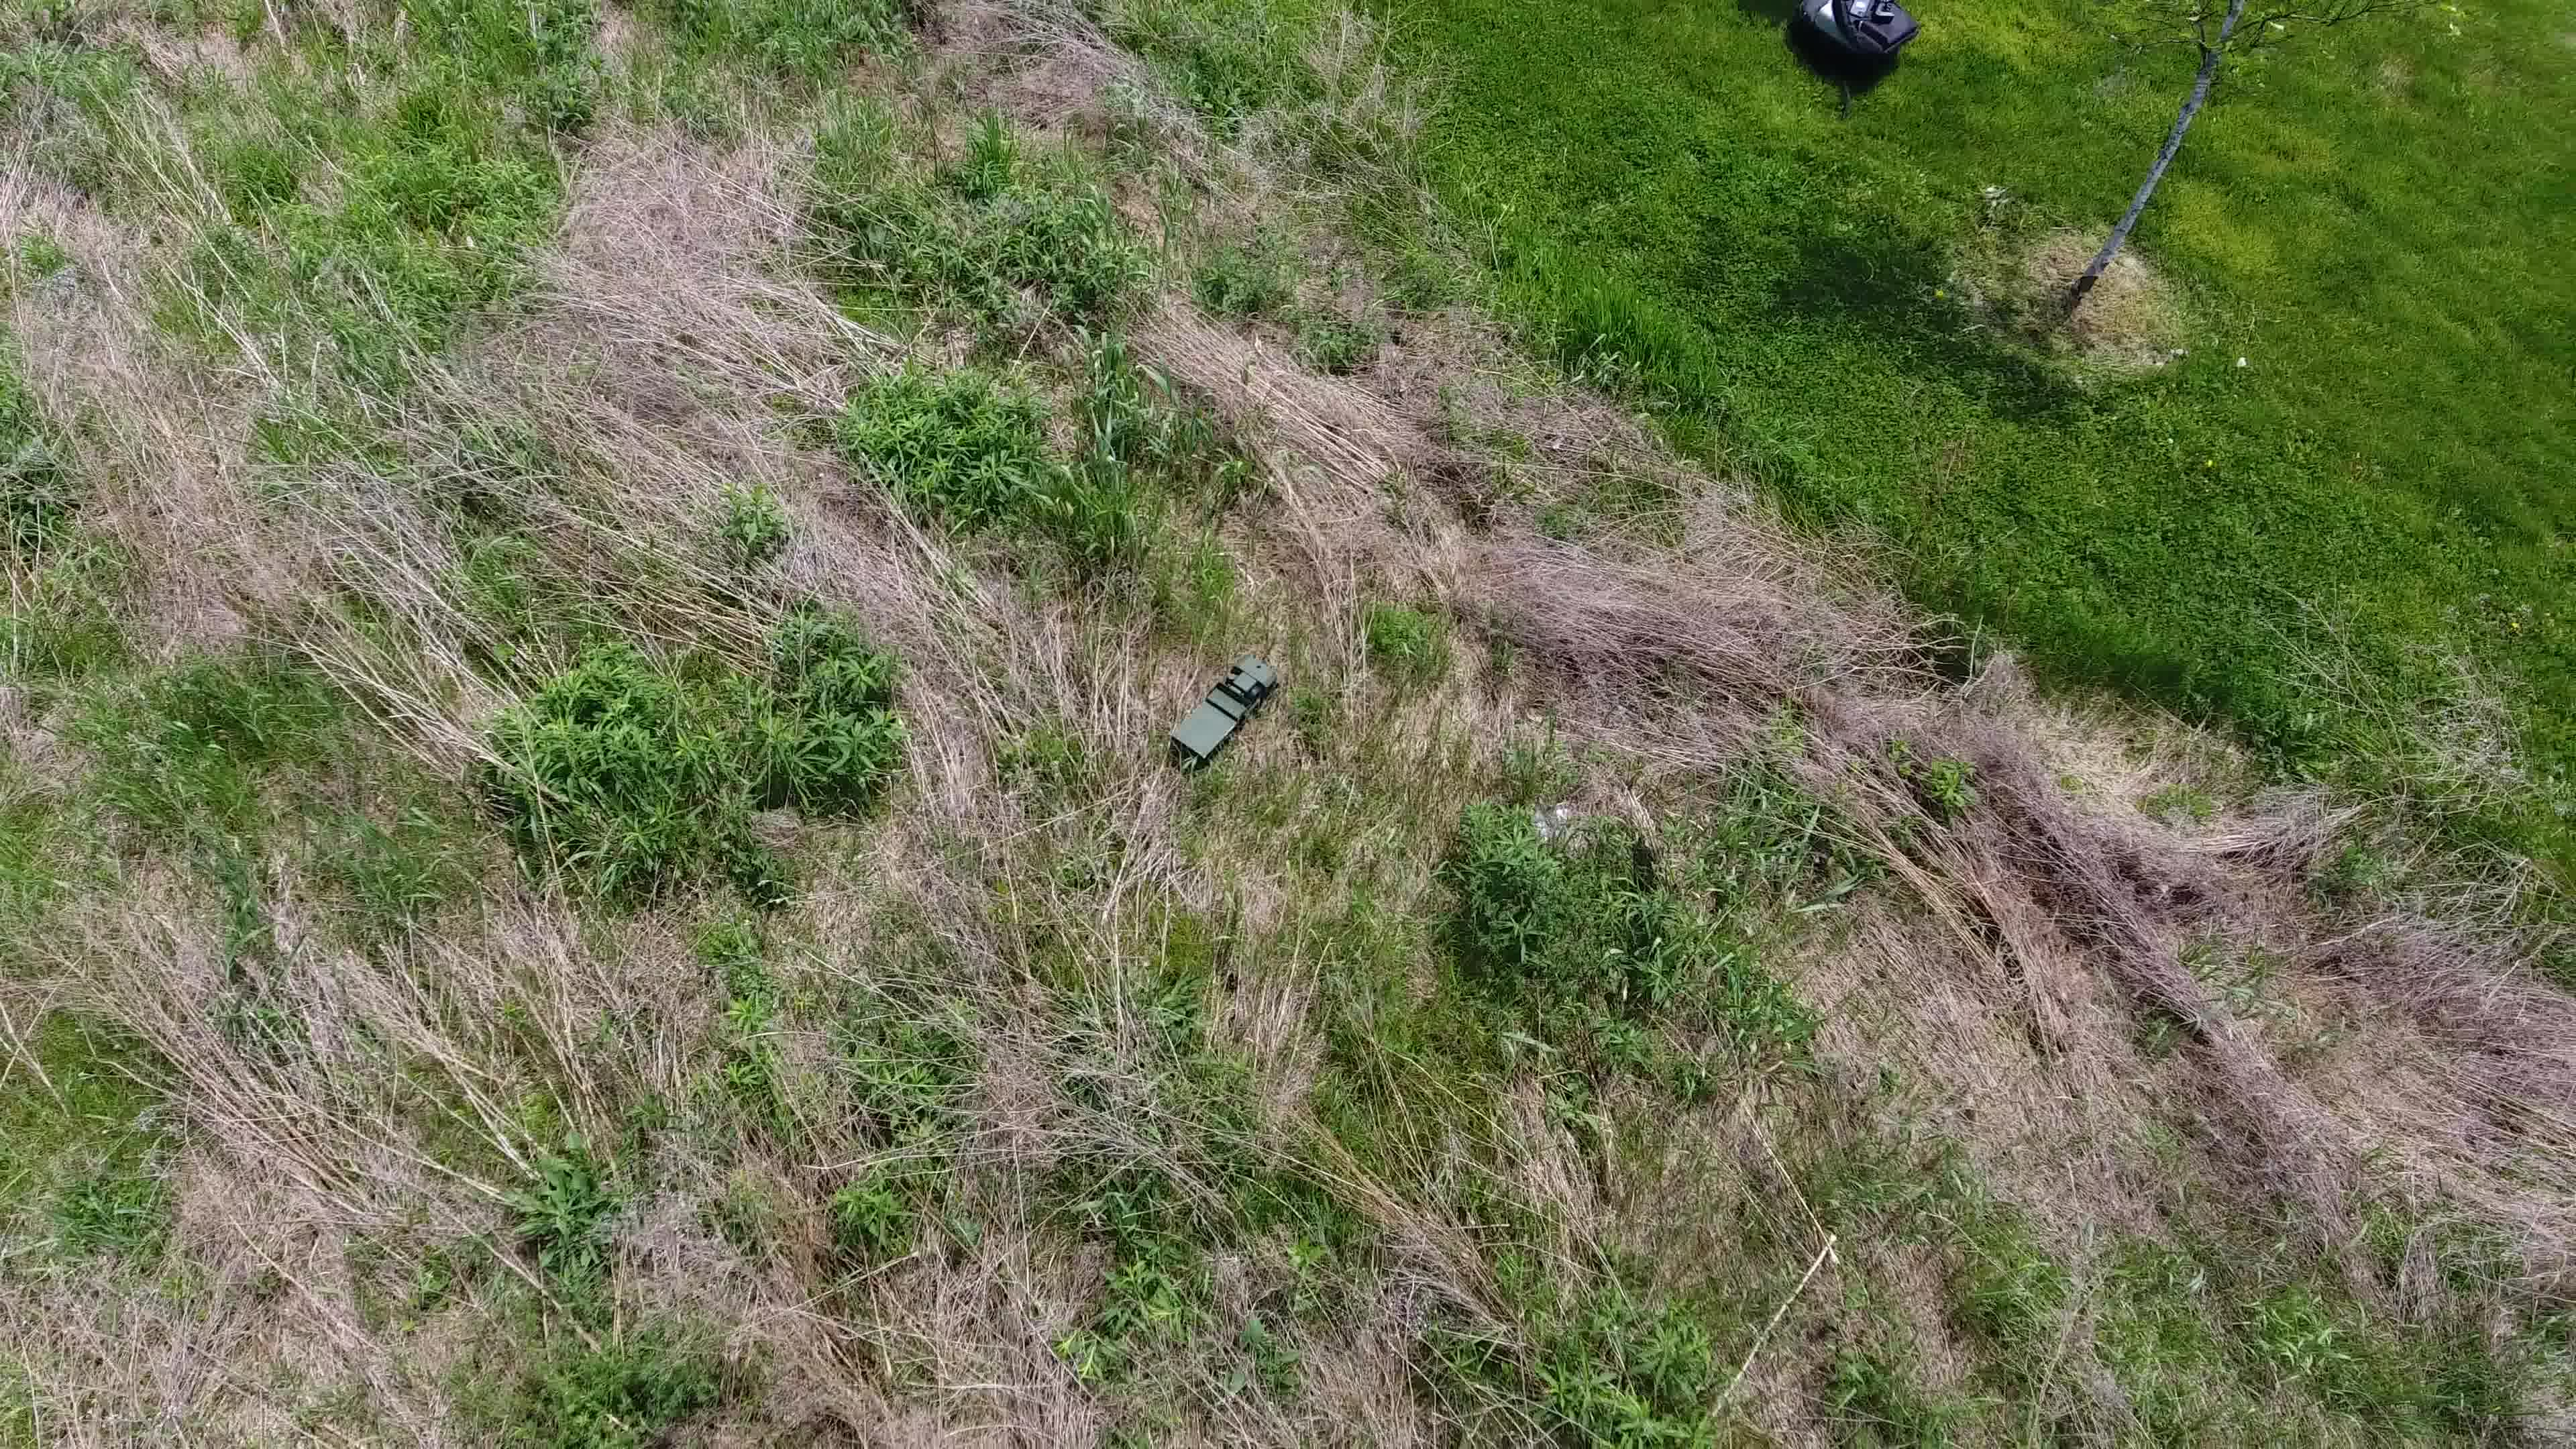transporter9: (1164, 655, 1281, 764)
